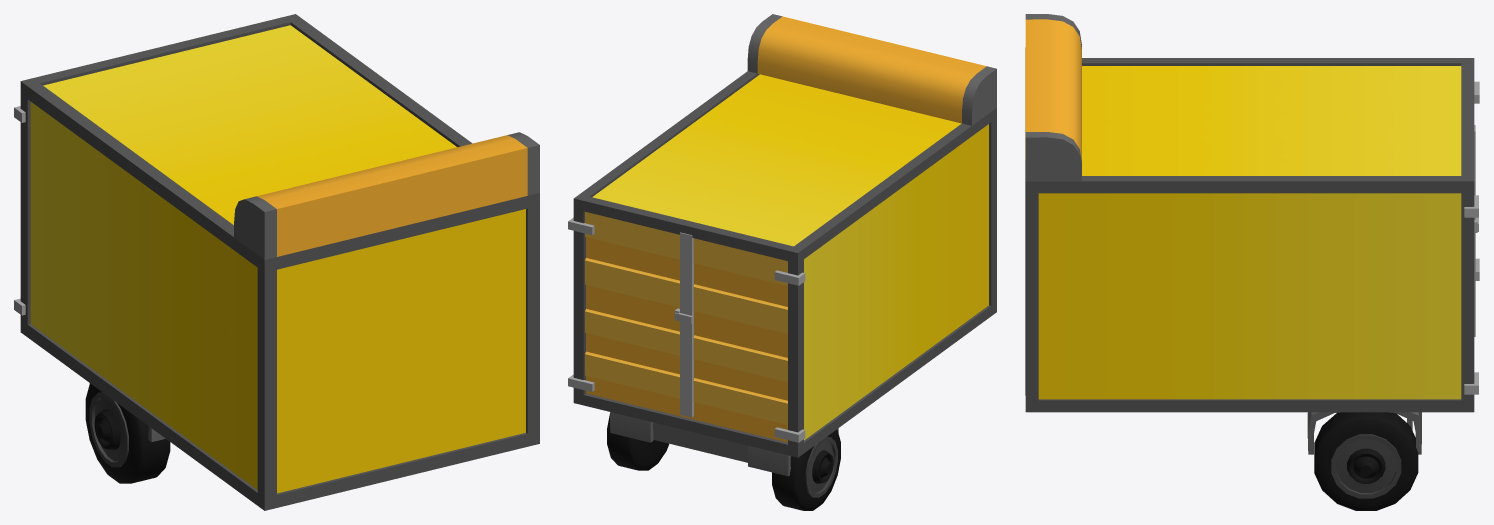
File: Trailer_3_lvl1.fbx
3 views of the same model, side by side, from view 1: azimuth 30°, elevation 25°; view 2: azimuth 150°, elevation 25°; view 3: azimuth 270°, elevation 25° (orthographic). The views are drawn at different scales.
Parts seen in each view (by area): view 1: Box052, R3_041; view 2: Box052, R3_041, Object016; view 3: Box052, Object016.
Boxes of the visible parts, bbox=[...] form: Box052: bbox=[14, 14, 539, 510]; R3_041: bbox=[85, 383, 170, 483]; Box052: bbox=[568, 14, 996, 476]; R3_041: bbox=[772, 429, 840, 510]; Object016: bbox=[607, 413, 669, 470]; Box052: bbox=[1025, 14, 1479, 454]; Object016: bbox=[1314, 412, 1418, 510].
Size of the model in its own units: 3866 by 5368 by 5831.
